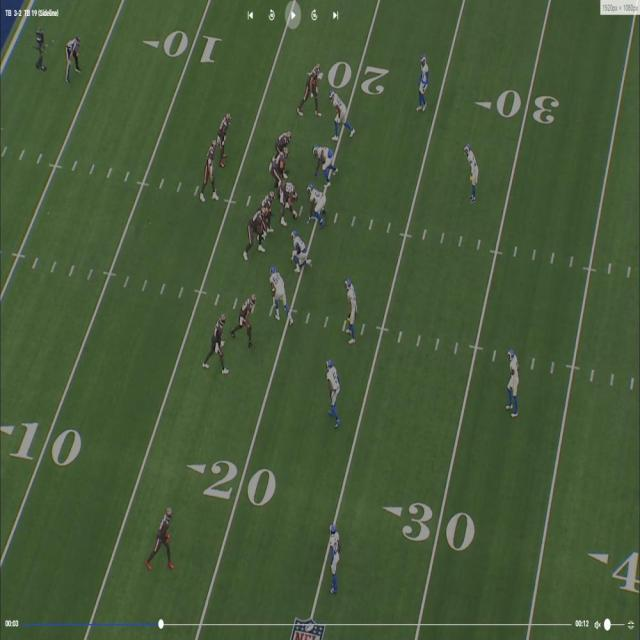center: (281, 180, 298, 221)
db: (327, 524, 341, 590), (328, 359, 340, 424), (507, 350, 518, 416), (420, 53, 431, 115), (468, 144, 480, 200)
lb: (332, 88, 351, 138), (346, 275, 356, 350)
qb: (203, 138, 220, 201)
skill: (150, 503, 176, 565), (233, 291, 255, 348), (207, 312, 226, 371), (299, 66, 320, 113), (222, 112, 232, 162)
